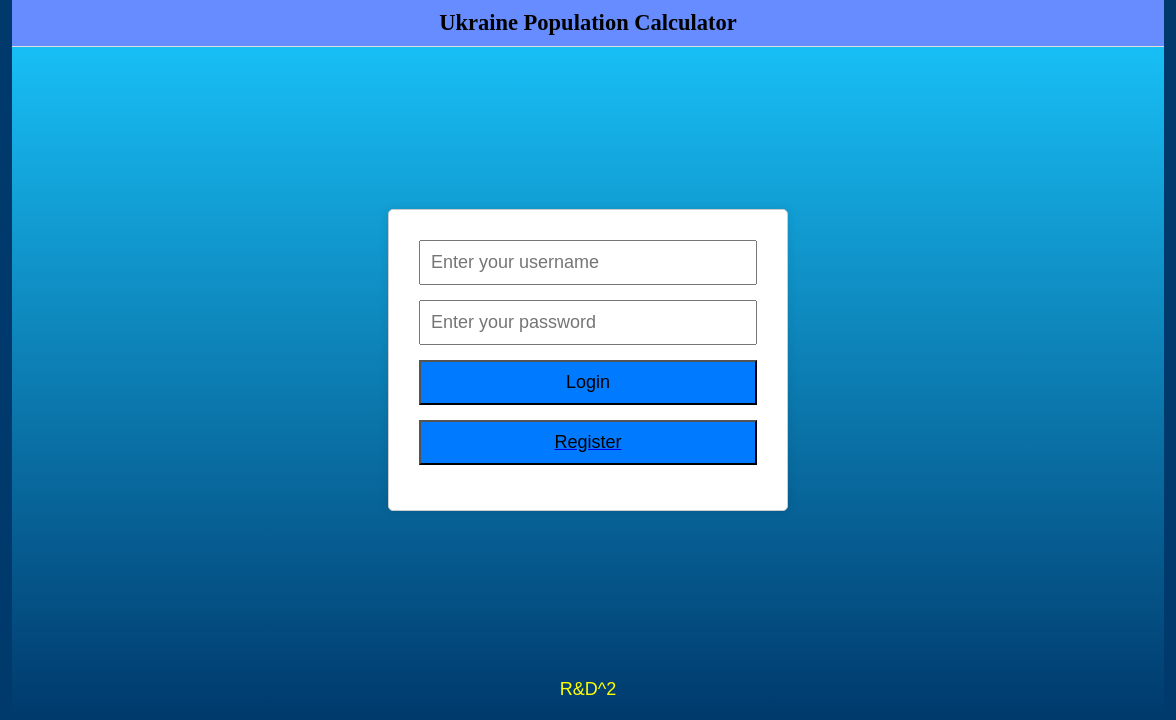
Test: Ukraine Population Calculator App › should navigate to the About page when R&D^2 button is clicked
Click the button "R&D^2" at (588, 690), box [12, 669, 1164, 710]
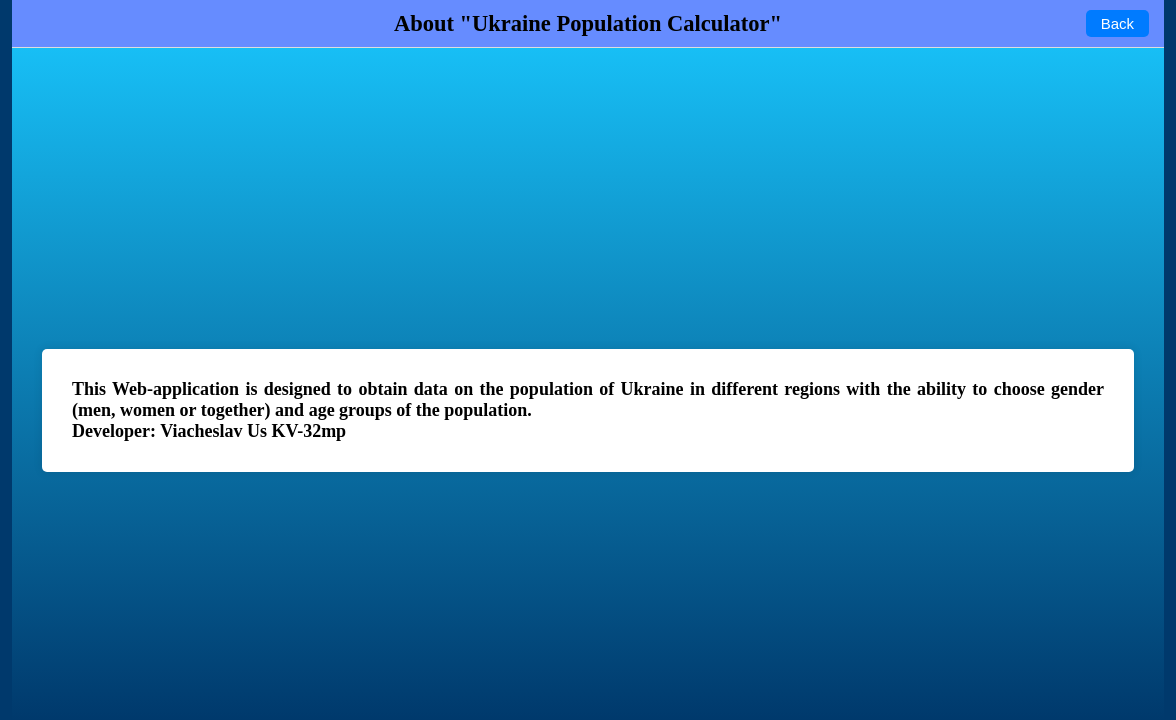
Check: the heading "Developer: Viacheslav Us KV-32mp" is shown, box [72, 420, 346, 440]
